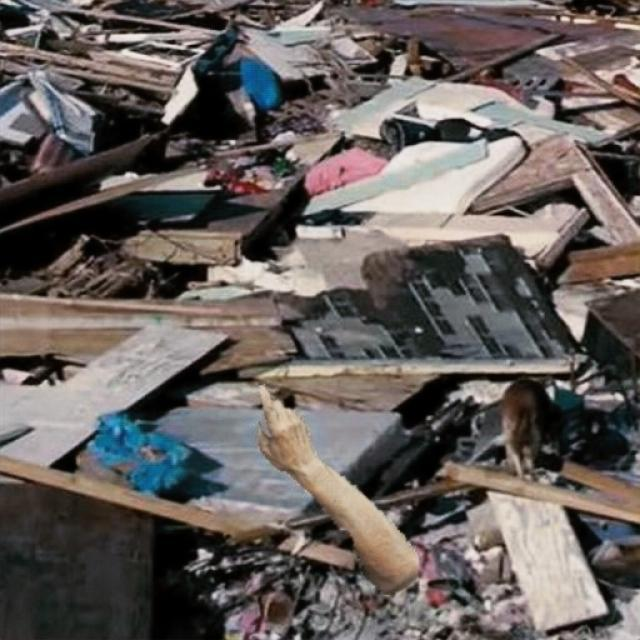Person in Rubble: (258, 384, 418, 596)
